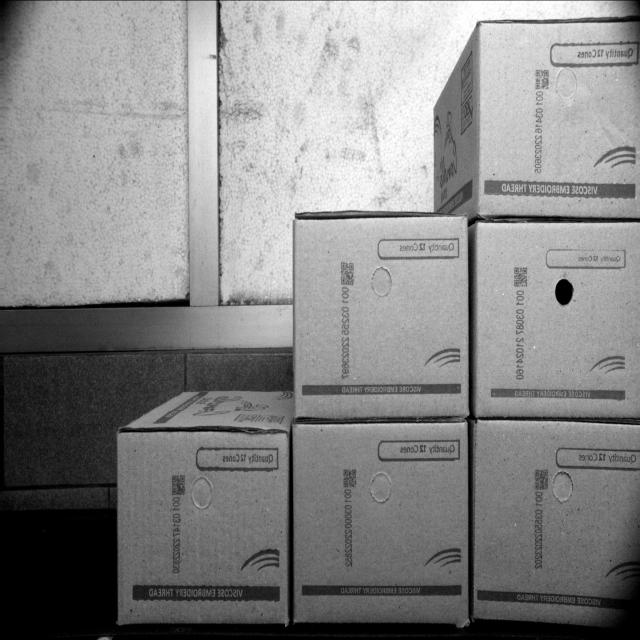cardboxes: (294, 215, 469, 419), (290, 424, 465, 624), (292, 217, 467, 416), (472, 420, 640, 623), (473, 222, 640, 416), (118, 430, 286, 622), (480, 22, 640, 214)
